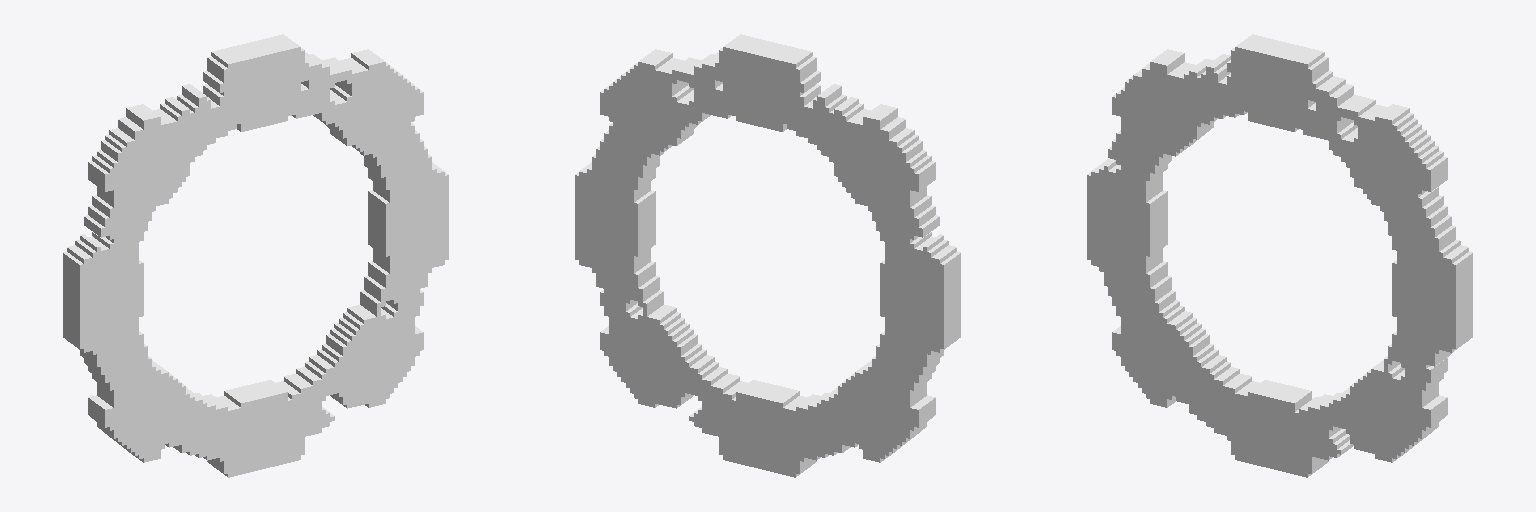
Rendered from Portaille.obj.
The picture shows the model from 3 angles: view 1: azimuth 30°, elevation 25°; view 2: azimuth 150°, elevation 25°; view 3: azimuth 330°, elevation 25°; orthographic projection.
Parts seen in each view (by area): view 1: object 1; view 2: object 1; view 3: object 1.
Part boxes in pixels (x1,y1,x2,y2): object 1: (63,34,448,477); object 1: (575,34,960,477); object 1: (1087,34,1472,477).
Bounding box in the file's own units: 8.7 × 9.3 × 0.7.